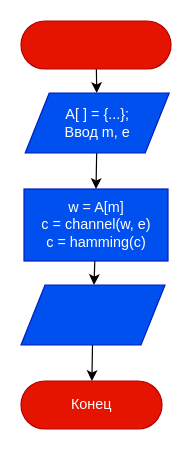
The diagram is 192 pixels wide and 450 high, and some of its shapes have lost their labels. The shapes that lost their labels are listed below. From the top down, each one's centre as x and y in pixels, then its label:
point 95,44: Начало
point 92,314: Вывод m,w,e,c,d
